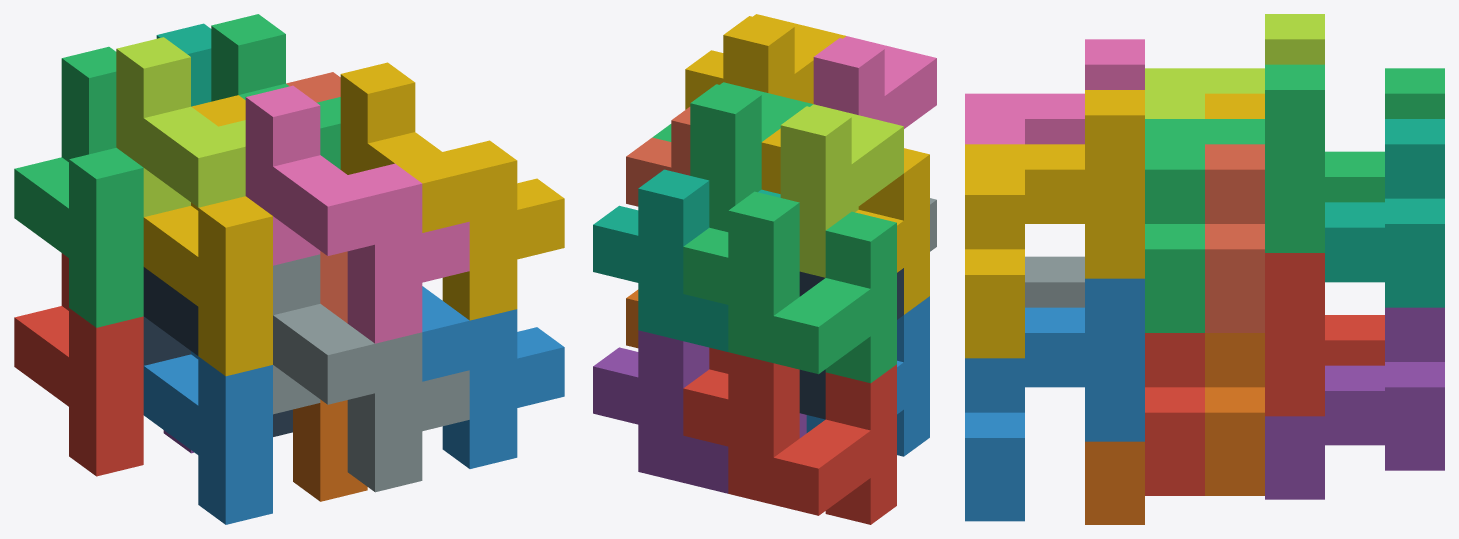
Rendered from tiling.obj.
3 views of the same model, side by side, from view 1: azimuth 30°, elevation 25°; view 2: azimuth 150°, elevation 25°; view 3: azimuth 270°, elevation 25° (orthographic). The views are drawn at different scales.
Parts seen in each view (by area): view 1: copy_2_domain_4, copy_2_domain_8, copy_2_domain_2, copy_1_domain_3, copy_1_domain_4, copy_1_domain_1, copy_2_domain_3, copy_1_domain_2, copy_2_domain_6, copy_2_domain_7, copy_1_domain_6, copy_2_domain_1 (+2 smaller); view 2: copy_1_domain_3, copy_1_domain_1, copy_1_domain_7, copy_2_domain_3, copy_1_domain_5, copy_2_domain_7, copy_2_domain_4, copy_2_domain_8, copy_1_domain_4, copy_1_domain_2, copy_1_domain_8, copy_2_domain_1 (+2 smaller); view 3: copy_2_domain_8, copy_2_domain_7, copy_2_domain_6, copy_1_domain_5, copy_2_domain_5, copy_1_domain_7, copy_1_domain_6, copy_1_domain_8, copy_2_domain_4, copy_2_domain_3, copy_1_domain_3, copy_2_domain_2 (+2 smaller).
Boxes of the visible parts, bbox=[...] form: copy_2_domain_4: bbox=[245, 85, 469, 343]; copy_2_domain_8: bbox=[340, 62, 564, 320]; copy_2_domain_2: bbox=[273, 254, 469, 492]; copy_1_domain_3: bbox=[14, 46, 143, 327]; copy_1_domain_4: bbox=[143, 95, 272, 376]; copy_1_domain_1: bbox=[14, 253, 143, 476]; copy_2_domain_3: bbox=[116, 37, 245, 216]; copy_1_domain_2: bbox=[143, 351, 272, 524]; copy_2_domain_6: bbox=[422, 286, 564, 468]; copy_2_domain_7: bbox=[211, 14, 340, 169]; copy_1_domain_6: bbox=[293, 399, 367, 501]; copy_2_domain_1: bbox=[143, 267, 292, 436]; copy_1_domain_3: bbox=[683, 191, 896, 383]; copy_1_domain_1: bbox=[683, 352, 896, 524]; copy_1_domain_7: bbox=[593, 169, 780, 351]; copy_2_domain_3: bbox=[780, 104, 903, 277]; copy_1_domain_5: bbox=[593, 330, 806, 493]; copy_2_domain_7: bbox=[652, 82, 813, 231]; copy_2_domain_4: bbox=[813, 36, 936, 128]; copy_2_domain_8: bbox=[685, 14, 845, 109]; copy_1_domain_4: bbox=[761, 128, 929, 314]; copy_1_domain_2: bbox=[806, 296, 929, 456]; copy_1_domain_8: bbox=[626, 107, 690, 206]; copy_2_domain_1: bbox=[799, 268, 903, 419]; copy_2_domain_8: bbox=[965, 90, 1144, 358]; copy_2_domain_7: bbox=[1145, 64, 1324, 332]; copy_2_domain_6: bbox=[965, 278, 1144, 521]; copy_1_domain_5: bbox=[1265, 307, 1444, 499]; copy_2_domain_5: bbox=[1145, 253, 1324, 495]; copy_1_domain_7: bbox=[1325, 119, 1444, 307]; copy_1_domain_6: bbox=[1085, 333, 1264, 524]; copy_1_domain_8: bbox=[1205, 144, 1264, 332]; copy_2_domain_4: bbox=[965, 39, 1144, 144]; copy_2_domain_3: bbox=[1145, 14, 1324, 118]; copy_1_domain_3: bbox=[1325, 68, 1444, 202]; copy_2_domain_2: bbox=[1025, 256, 1084, 307].
Bounding box in the file's own units: 7 × 8 × 8.
